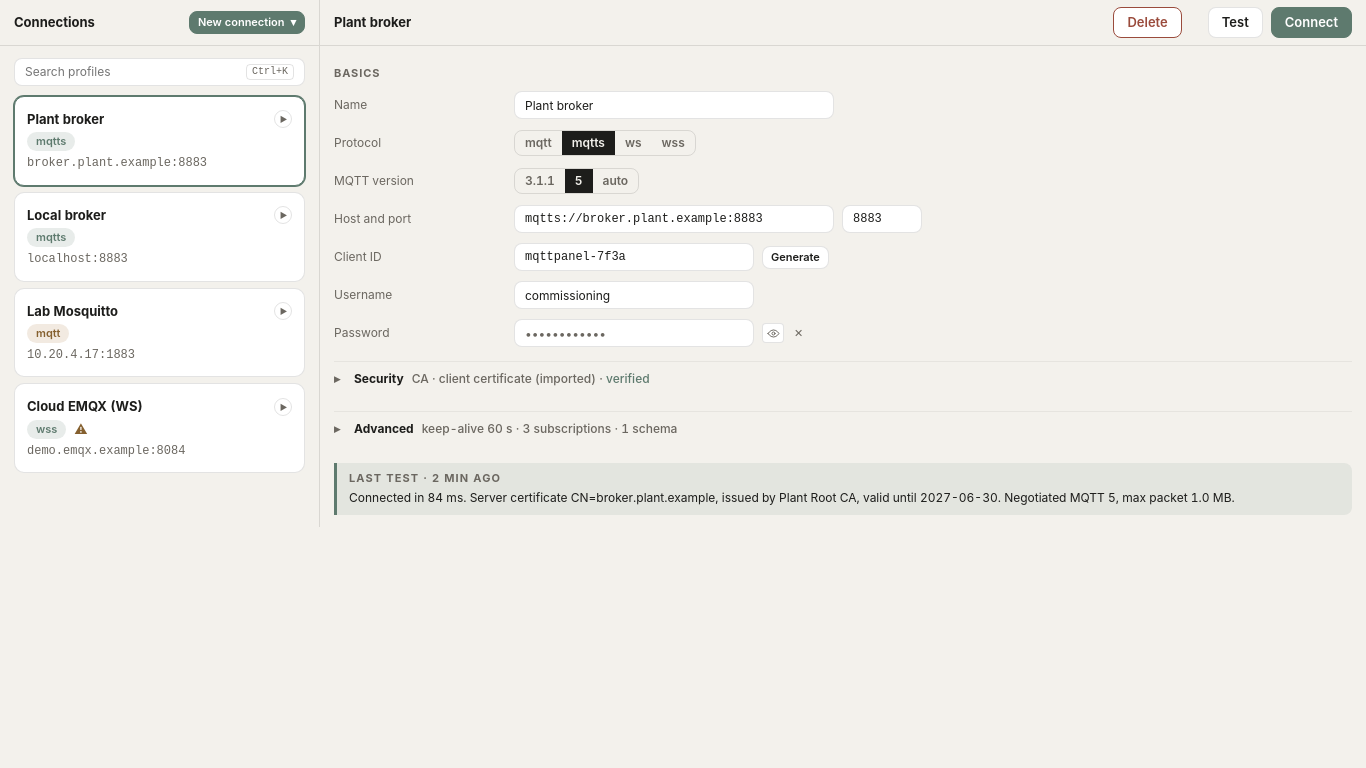
Test: Change set 5: play button on idle cards (C-21) › on "Local broker" it starts a stopped broker first
The image size is (1366, 768).
Click the button with test id "card-play" in the row of "Local broker".
click(283, 215)  # box [274,206,292,224]
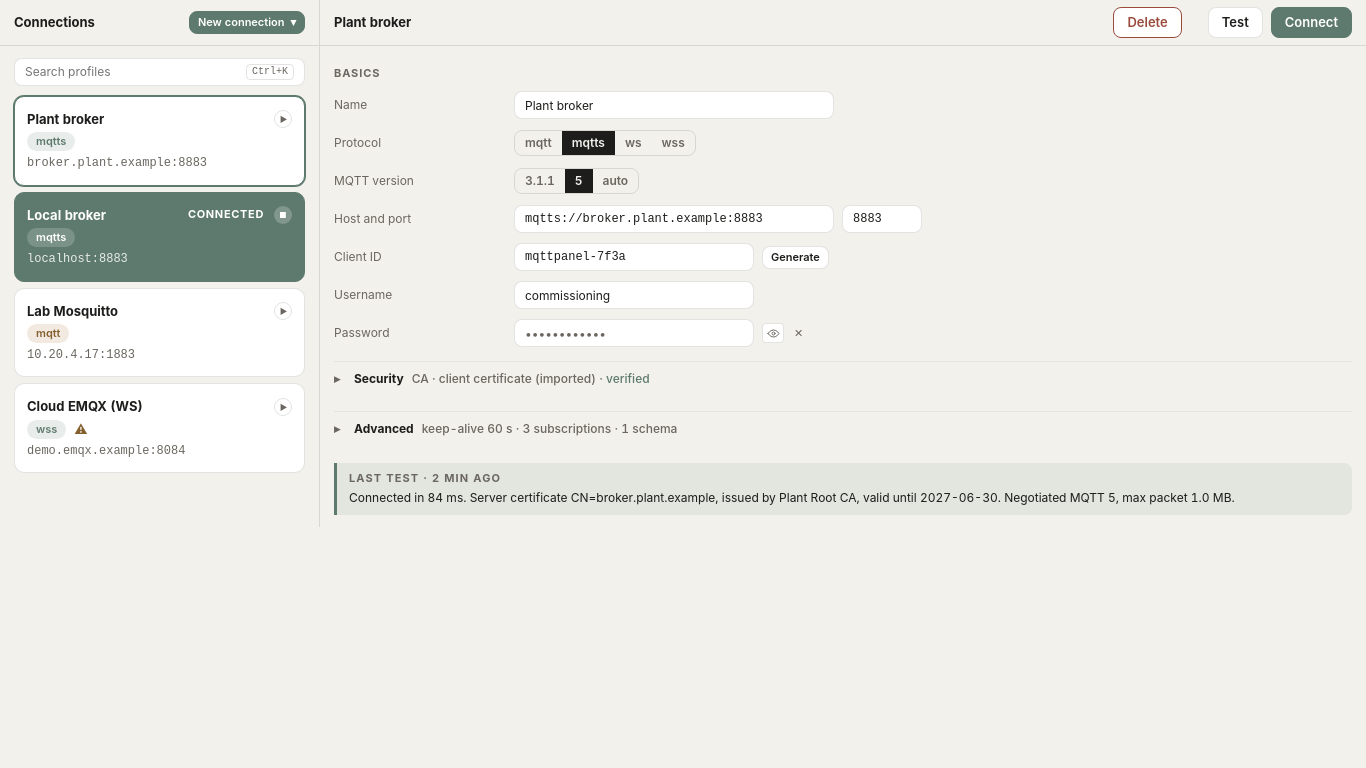
Now the button with test id "card-stop" is shown, box [274,206,292,224]
